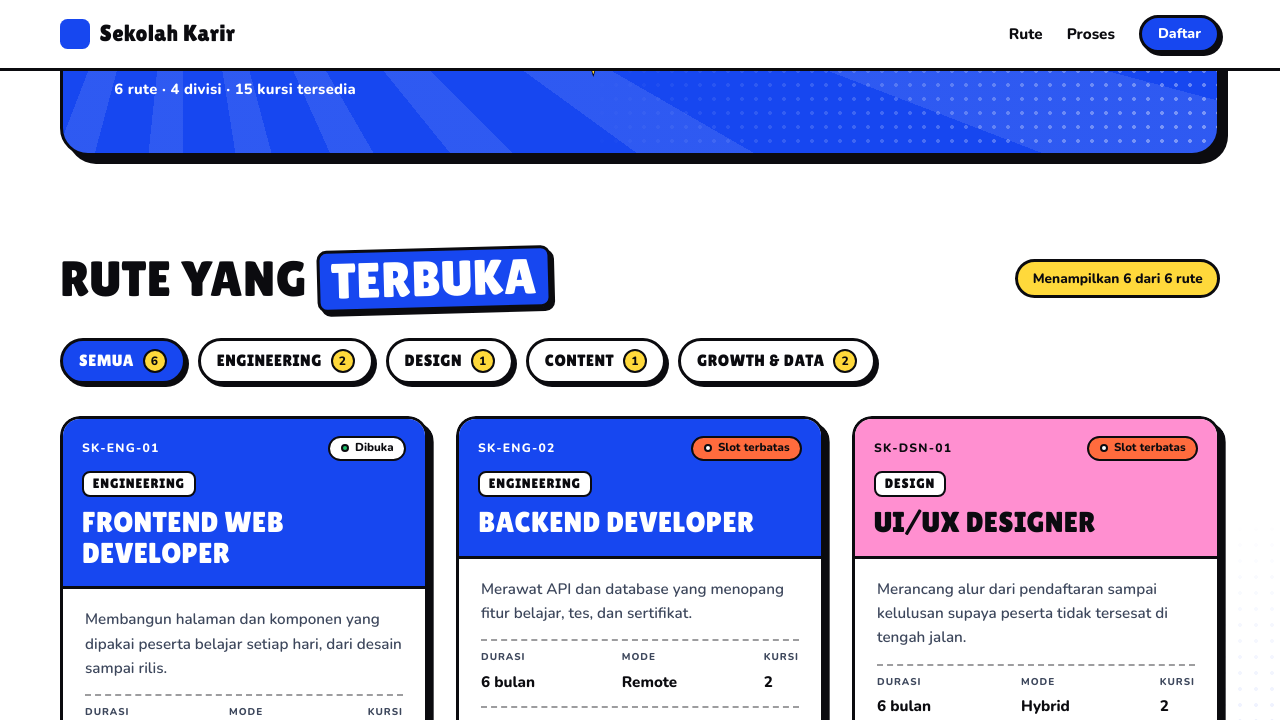
it: Landing page rekrutmen › menyaring kartu berdasarkan divisi dan memperbarui hitungan
The image size is (1280, 720).
(page scrolled)
Click the button "Engineering 2": (286, 361) [198,338,374,384]
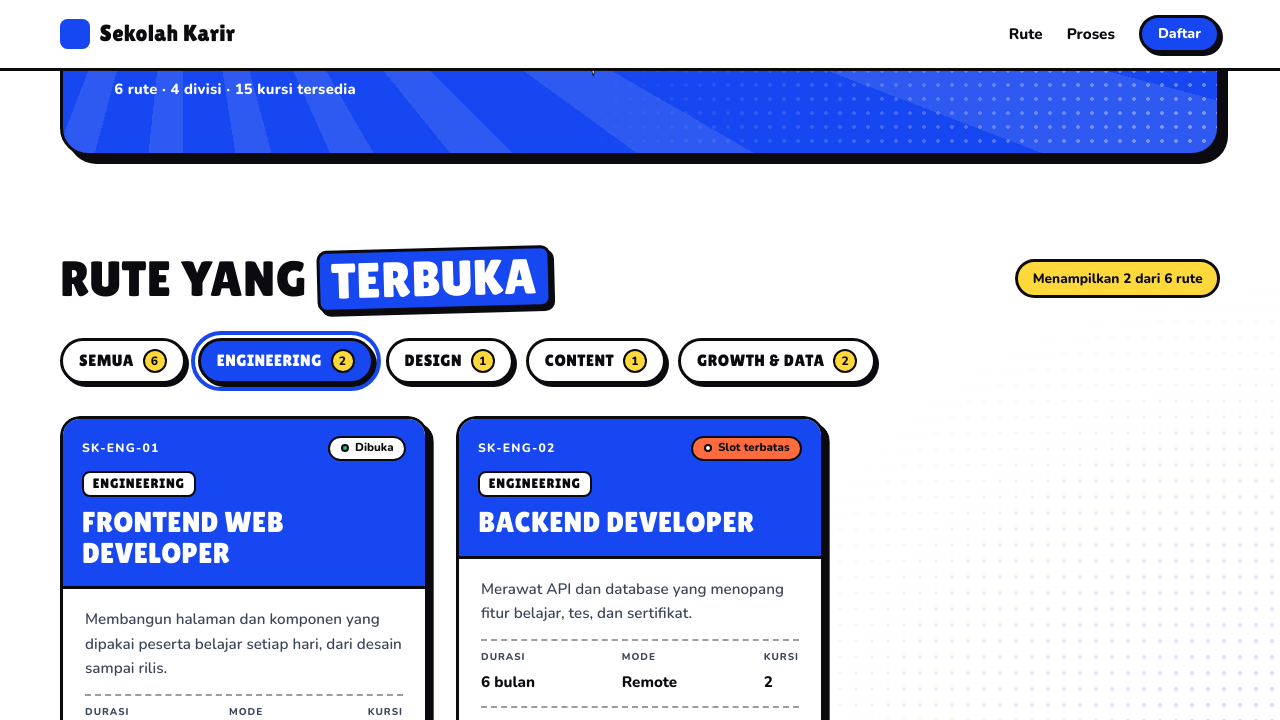
Expected: the text "Menampilkan 2 dari 6 rute" is shown, [1015,260,1220,298]
